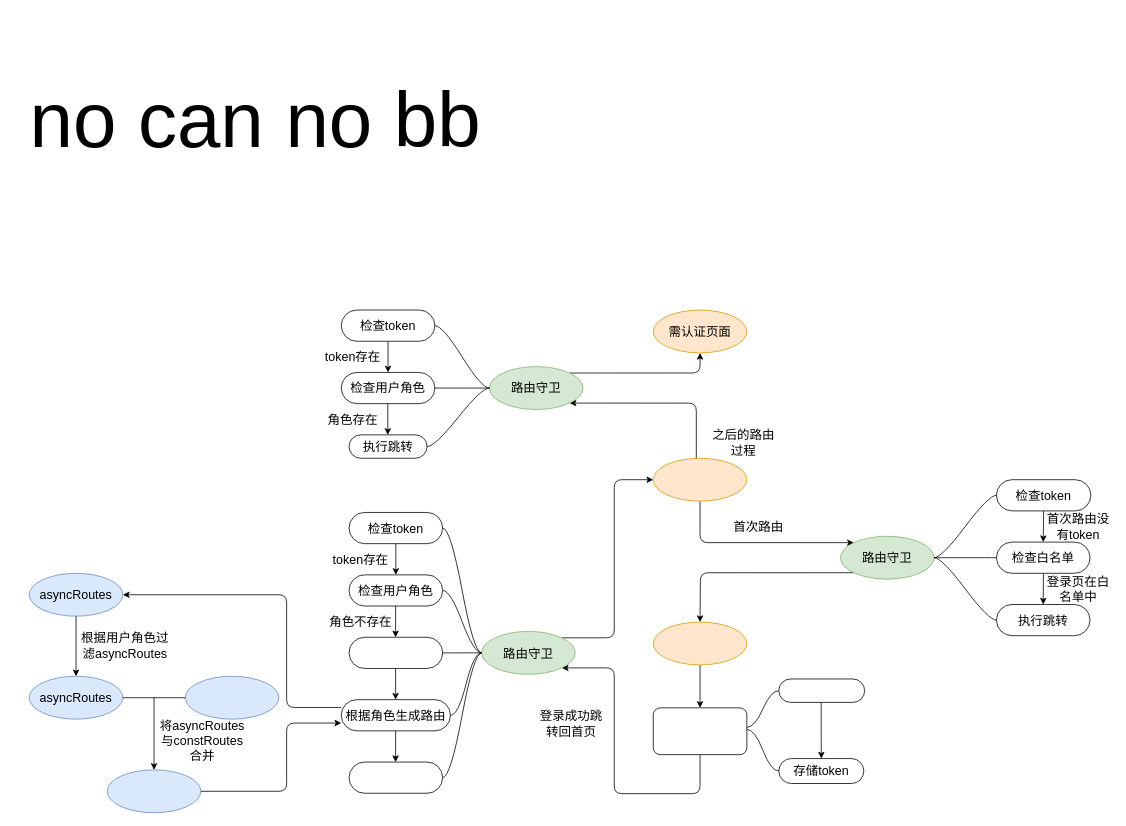
This 1126x826 diagram has some shape labels left out. The centre of each missing label's shape, as x and y in pixels:
constRoutes: the point at 231,697
routes: the point at 153,791
登录: the point at 699,731
登录页: the point at 699,643
获取token: the point at 821,690
获取用户角色: the point at 395,652
重新跳转: the point at 395,777
首页: the point at 699,479
